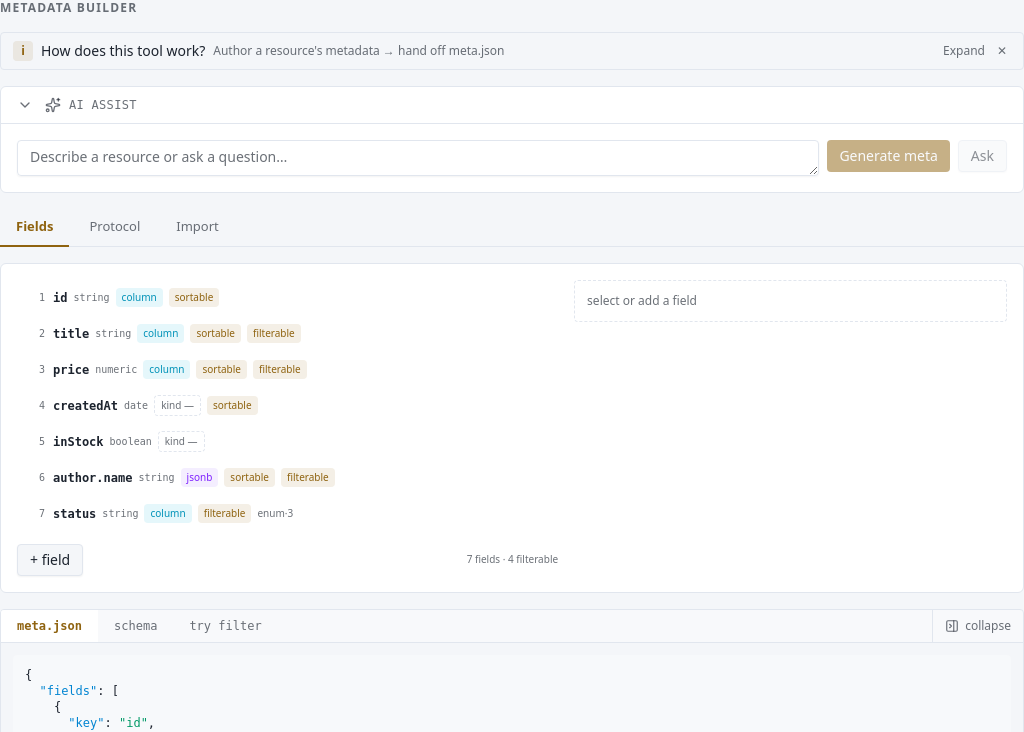
it: MetadataBuilderTool AI panel › generate applies the returned meta through the import path and lands on Fields
Click the button "Protocol".
click(115, 228)  # box [74,209,156,246]
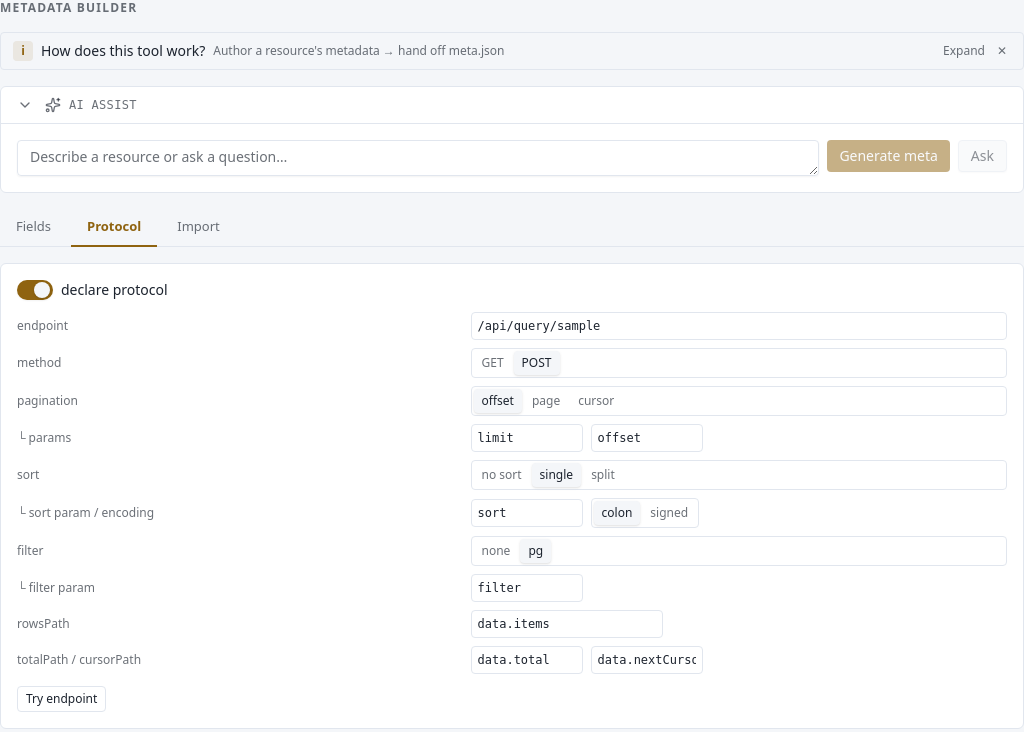
Type "an order resource" into the text box with placeholder "Describe a resource or ask a question…".
click(418, 158); type("an order resource")  # box [17,140,819,176]
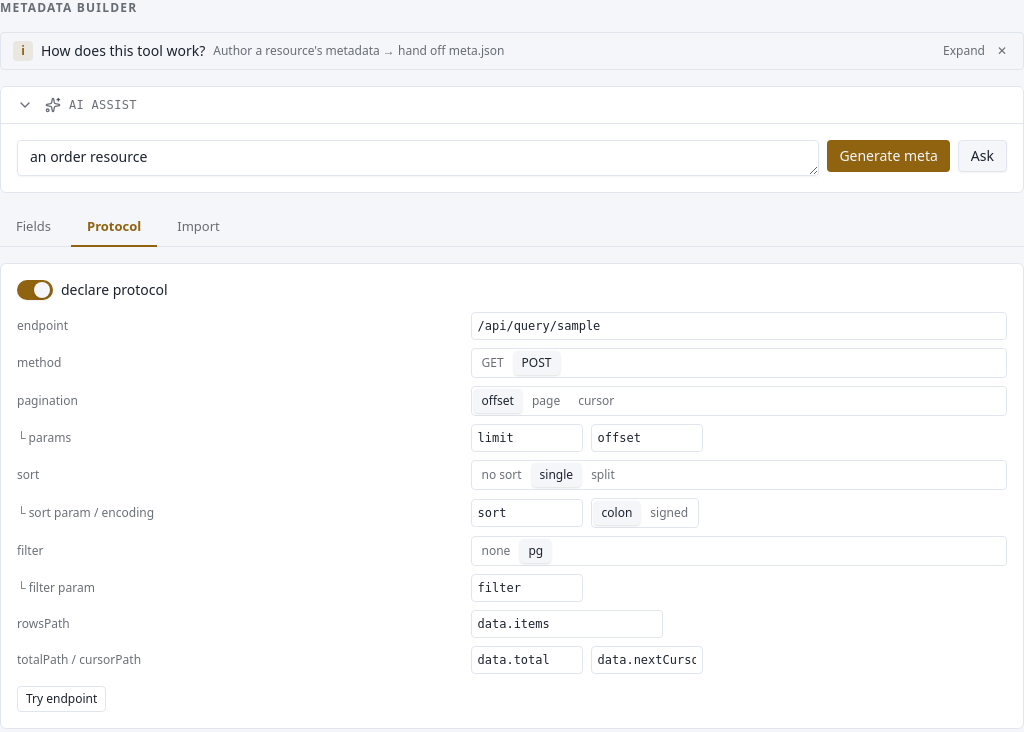
Click the button "Generate meta".
click(889, 156)  # box [827,140,950,172]
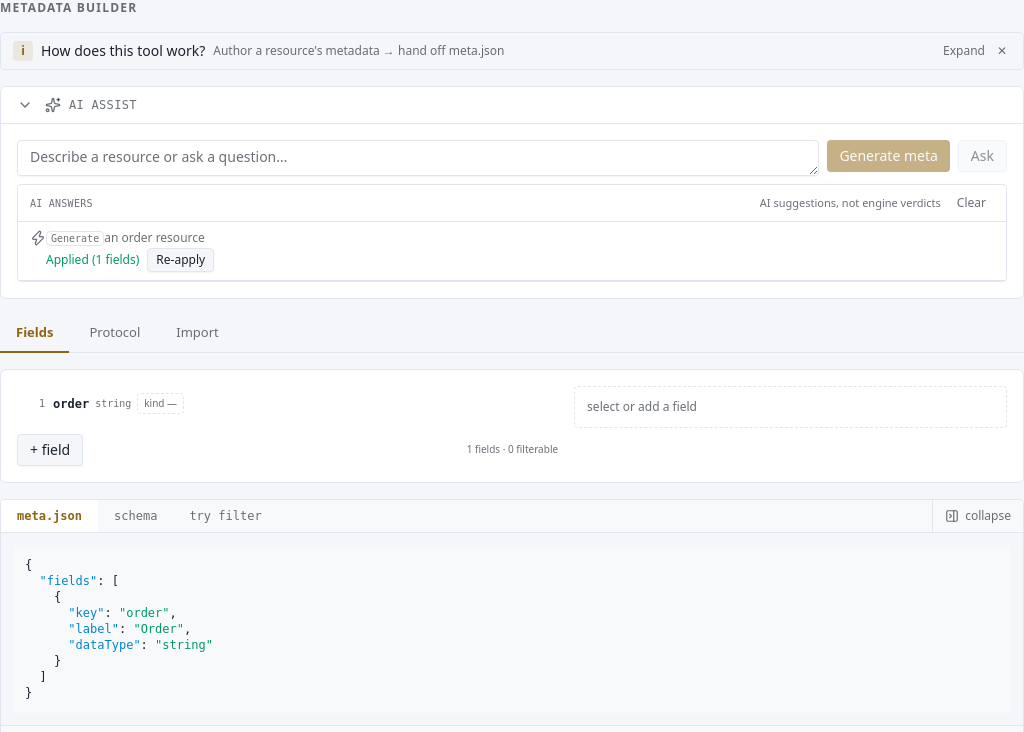
Check: the option "1 order string kind —" is shown, box [39,393,184,414]
Check: the text "Applied (1 fields)" is shown, box [46,252,139,268]
